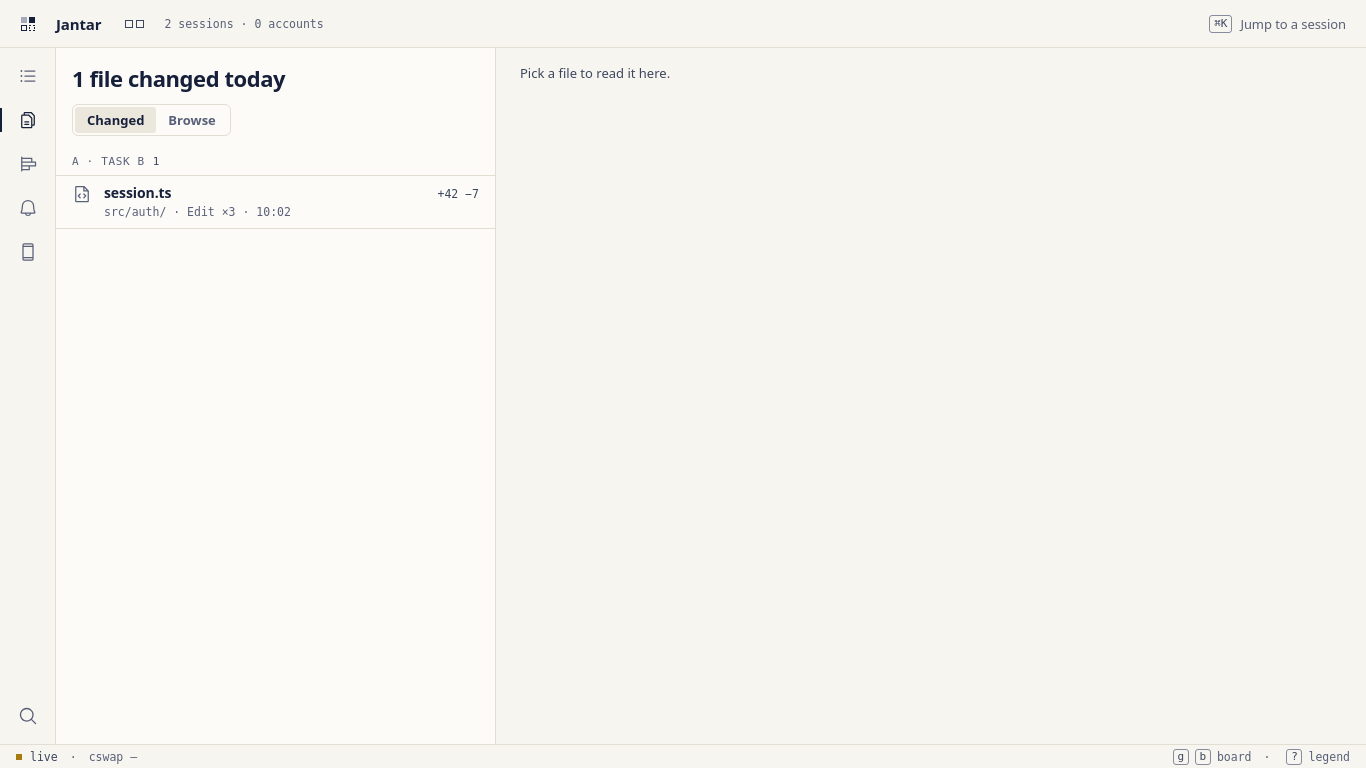
Test: the Files place: changed files › "Ask about this" asks the session that changed the file, though its folder is listed as another session's
Click the button "session.ts +42 −7 src/auth/ · Edit ×3 · 10:02" at (276, 202), box [56,176,495,228]
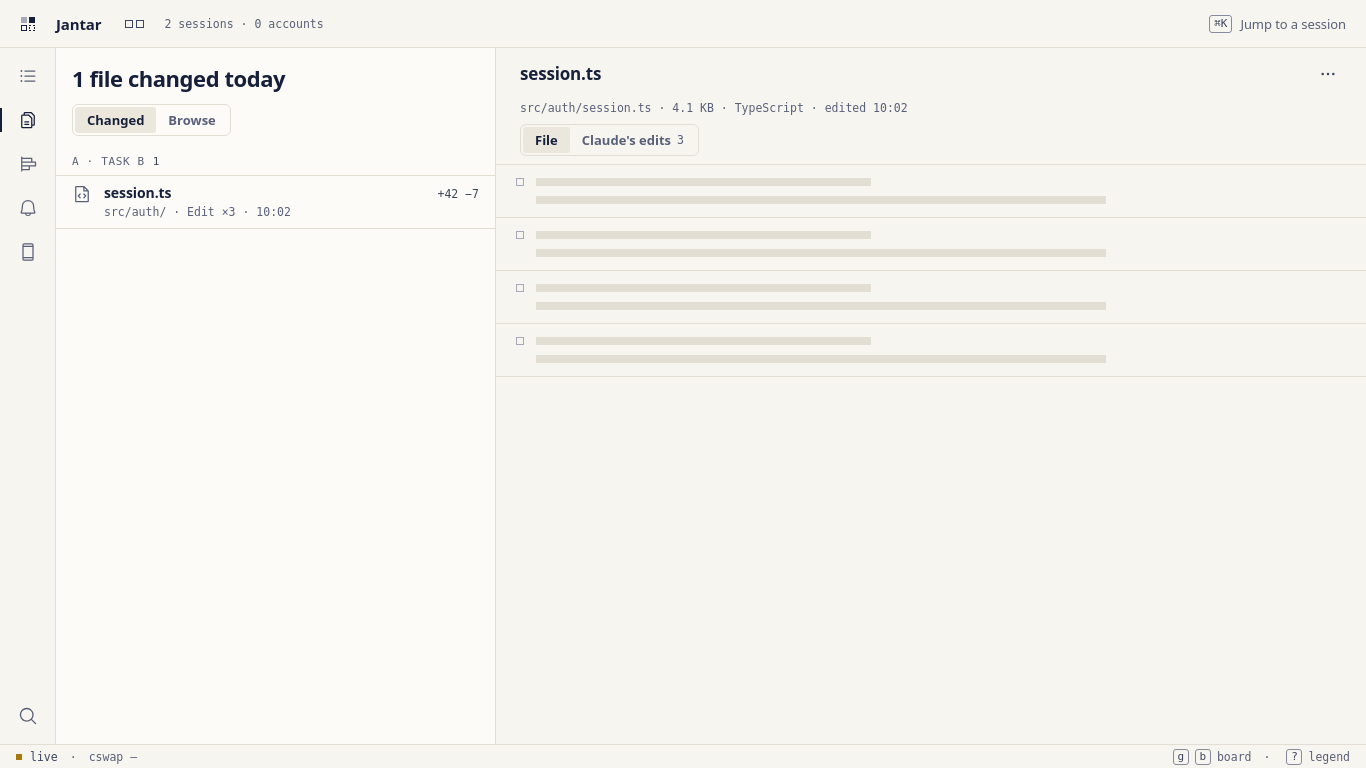
Click the button named "More for this file" at (1328, 74), box [1314,60,1342,88]
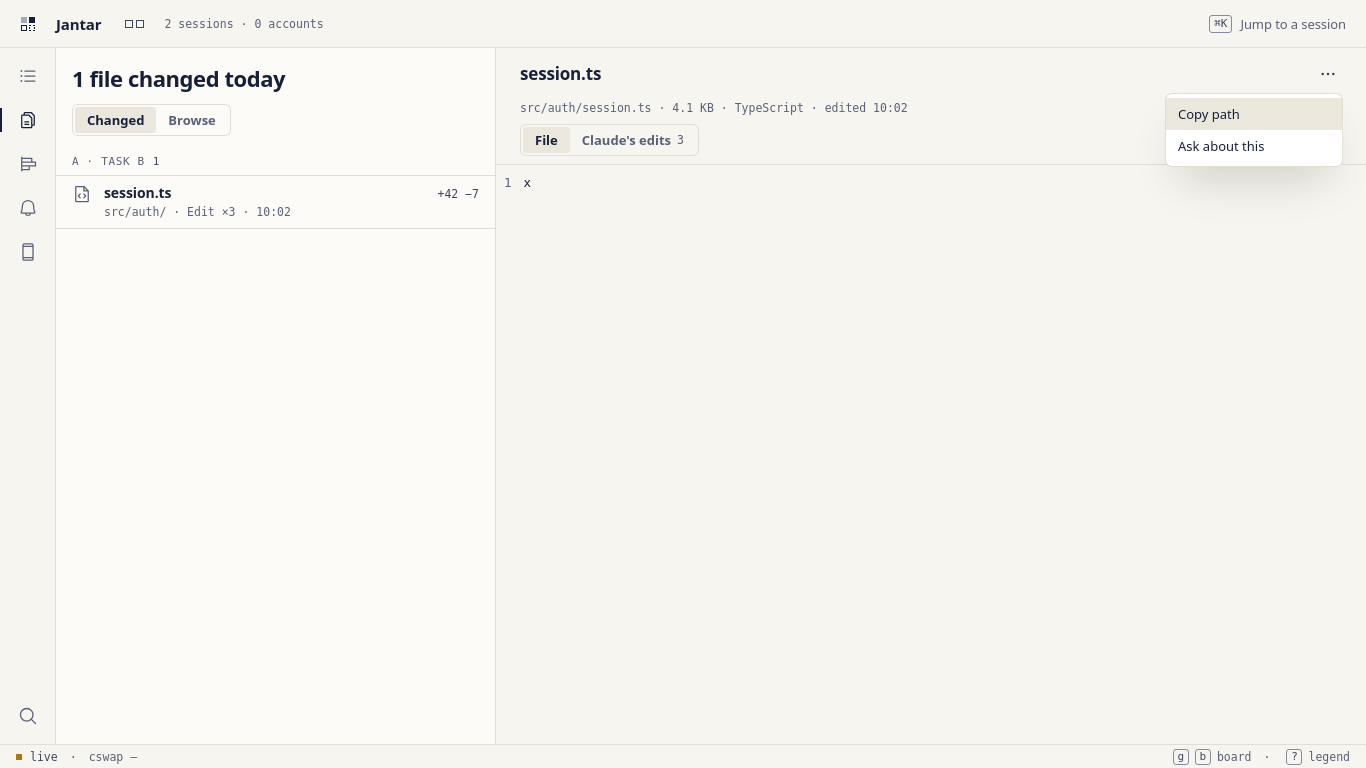
Click the menu item "Ask about this" at (1221, 146), box [1178,137,1264,155]
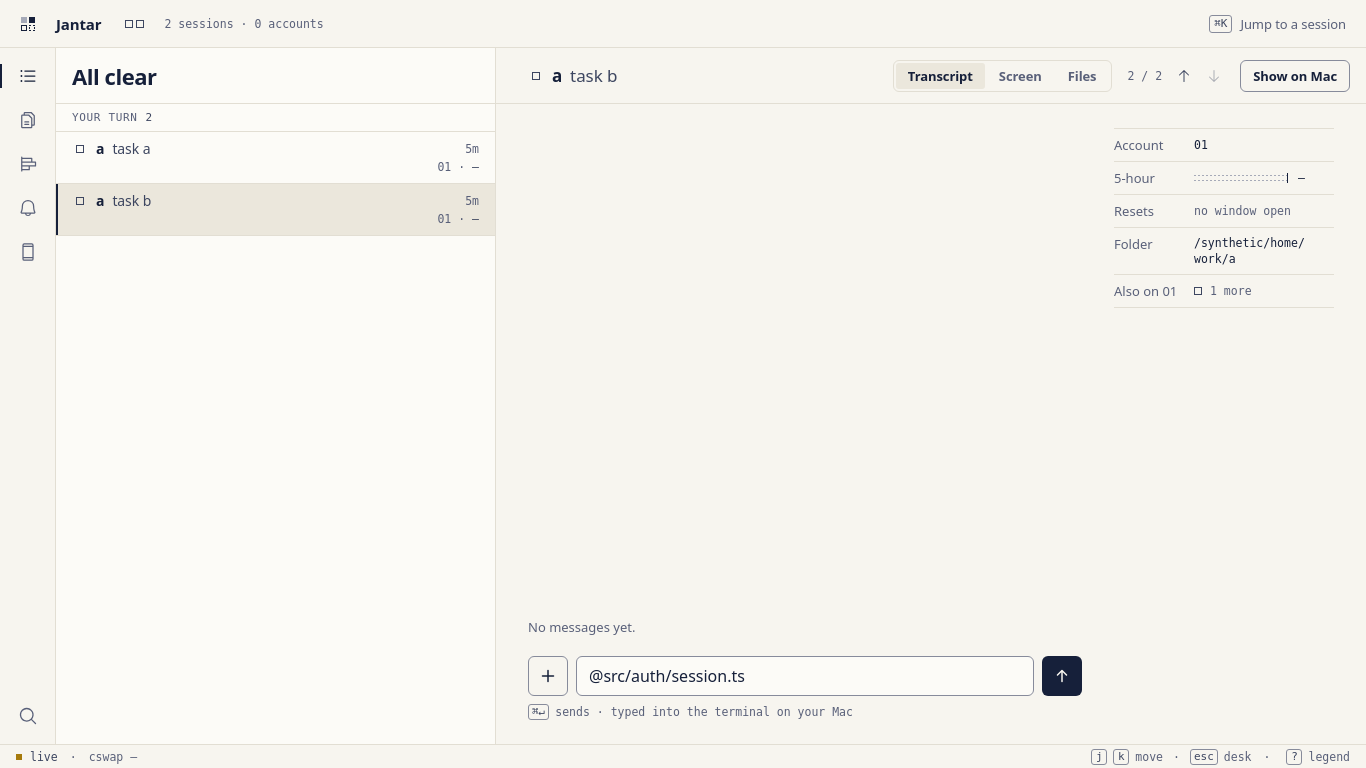
Now the text box holds "@src/auth/session.ts ", box [576,656,1034,696]
